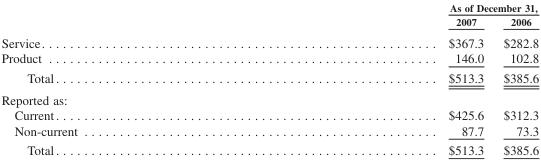table: (0, 0, 538, 156)
table column: (0, 0, 262, 156), (262, 0, 492, 156), (492, 0, 538, 156)
table column header: (0, 0, 538, 31)
table projected row header: (0, 88, 538, 107)
table row: (0, 67, 538, 88), (0, 31, 538, 50), (0, 88, 538, 107), (0, 122, 538, 140), (0, 14, 538, 31), (0, 50, 538, 67), (0, 140, 538, 156), (0, 107, 538, 122), (0, 0, 538, 14)
table spanning cell: (262, 0, 538, 14)
